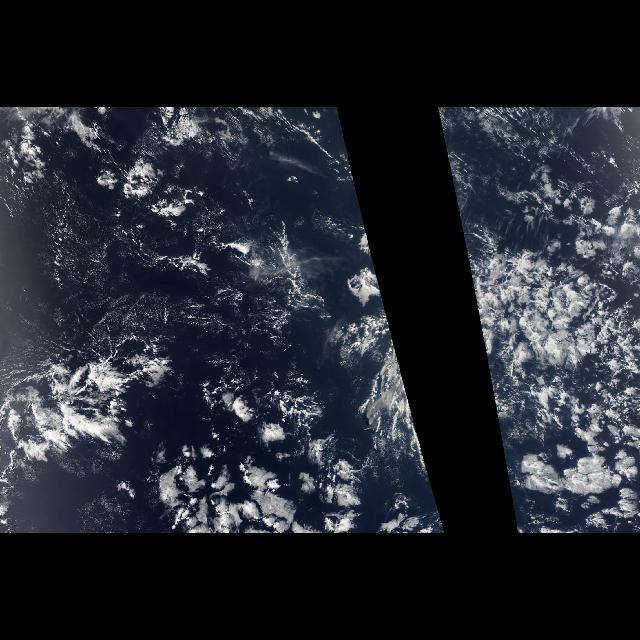Fish: (3, 311, 215, 463)
Gravel: (6, 190, 332, 354)
